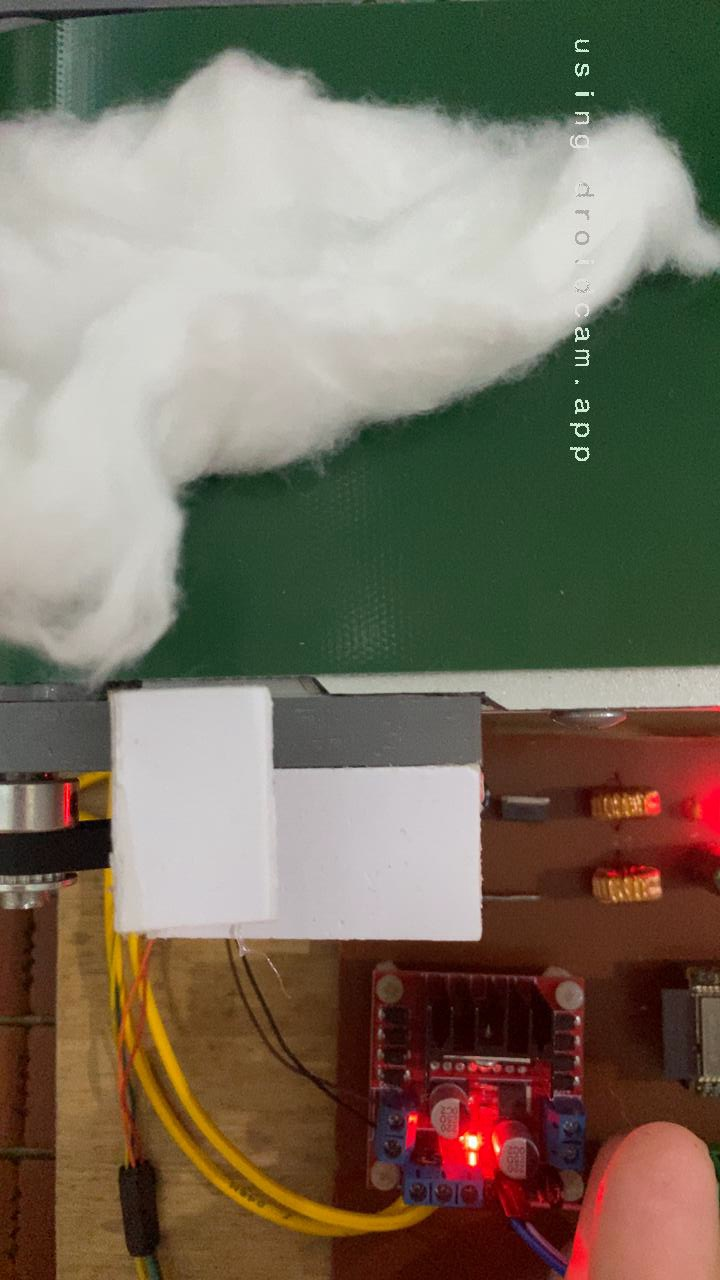cotton: (0, 41, 720, 672)
